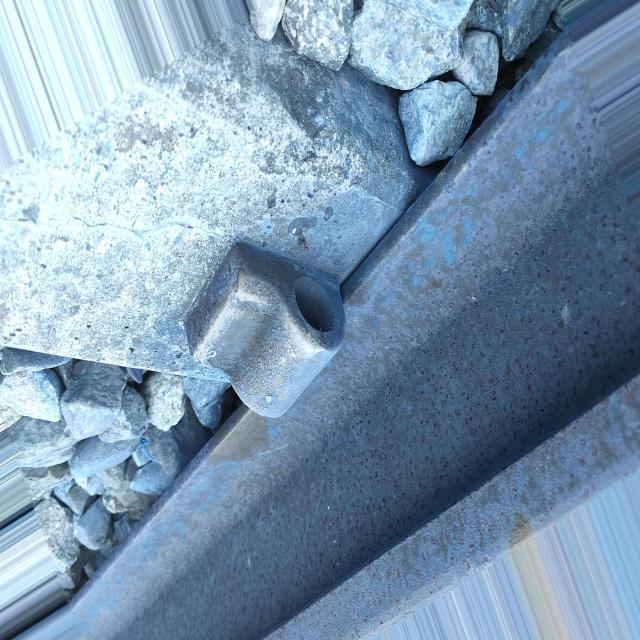Missing Fastener: (148, 241, 392, 441)
